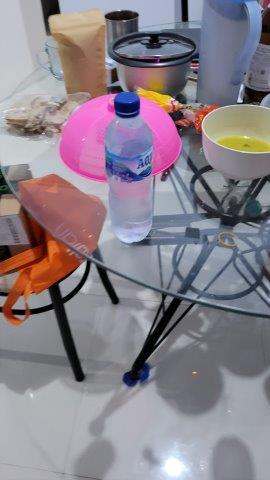botolplastik: (105, 92, 156, 245)
